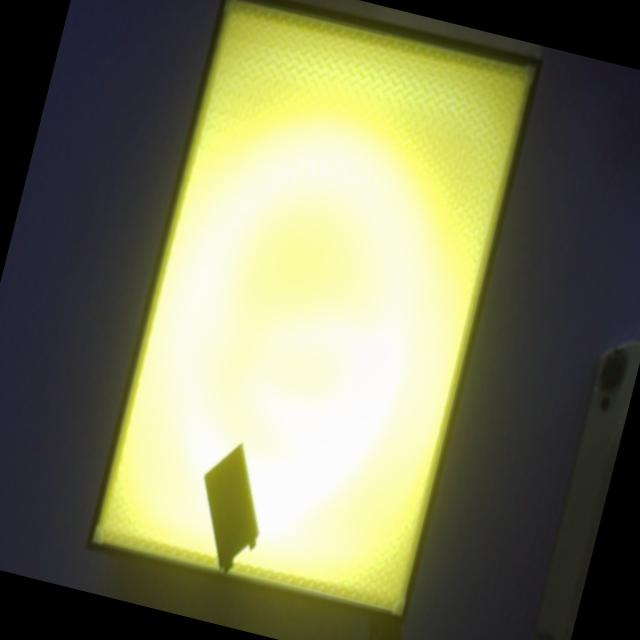bateria: (201, 439, 261, 576)
mesa: (84, 0, 545, 628)
